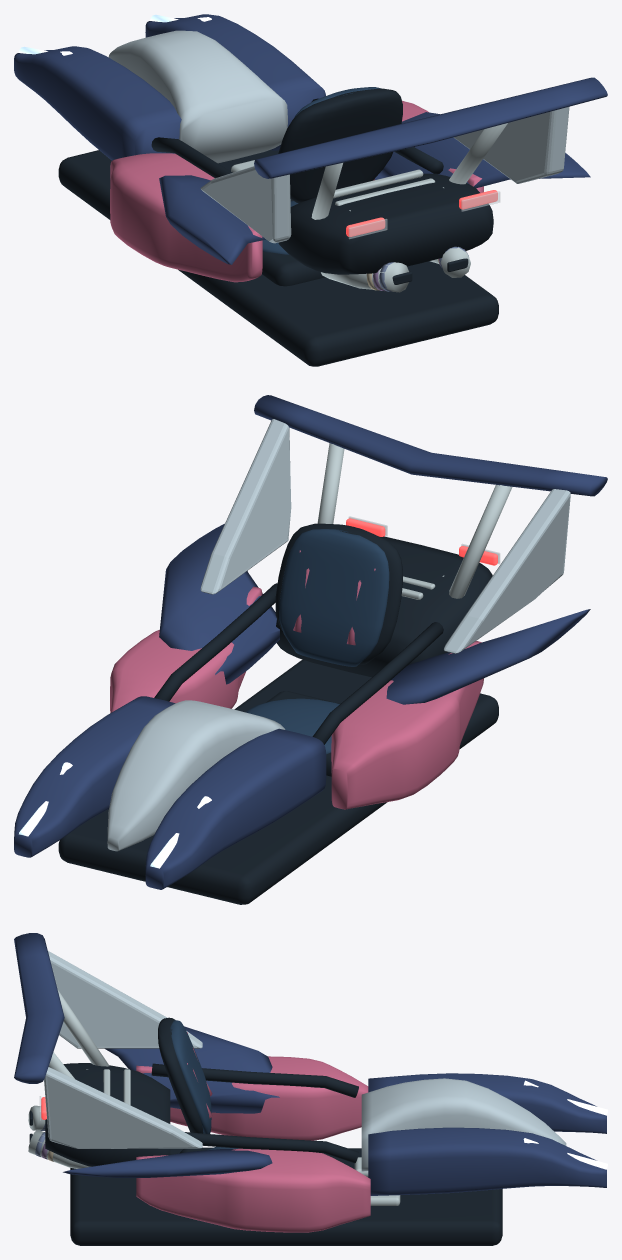
The model's file is mondsprint.glb.
3 renders of one model, top to bottom at view 1: azimuth 30°, elevation 25°; view 2: azimuth 150°, elevation 25°; view 3: azimuth 270°, elevation 25°, orthographic. The views are drawn at different scales.
Visible parts, largest first — view 1: LOD0, ShowroomDetail; view 2: LOD0; view 3: LOD0.
Boxes of the visible parts, x1,y1,x2,y2 form: LOD0: (14,14,607,366); ShowroomDetail: (348,191,500,291); LOD0: (14,395,607,904); LOD0: (14,933,607,1245).
Size of what is drawn, in the model's own units: 1.54 by 1.01 by 2.61.
